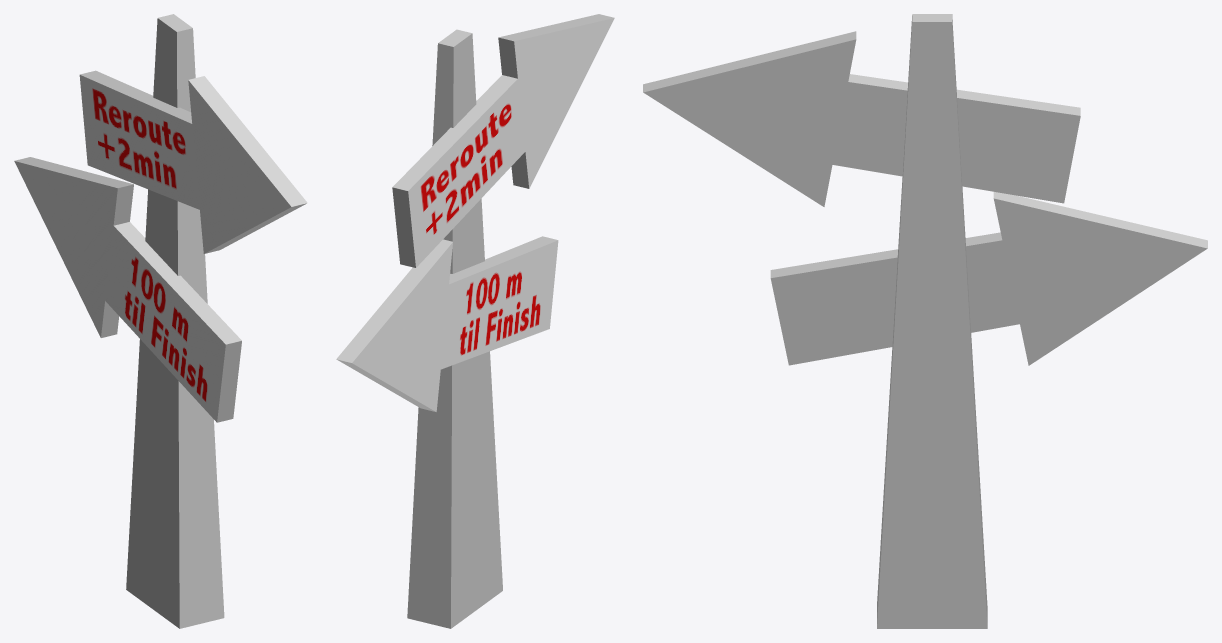
The model's file is Sign2.fbx.
3 views of the same model, side by side, from view 1: azimuth 30°, elevation 25°; view 2: azimuth 150°, elevation 25°; view 3: azimuth 270°, elevation 25° (orthographic). The views are drawn at different scales.
Parts seen in each view (by area): view 1: pCube11; view 2: pCube11; view 3: pCube11.
Boxes of the visible parts, <box> form: pCube11: <box>14,14,307,628</box>; pCube11: <box>336,14,614,628</box>; pCube11: <box>643,14,1207,628</box>.
Size of the model in its own units: 1.12 by 12.4 by 10.58.
